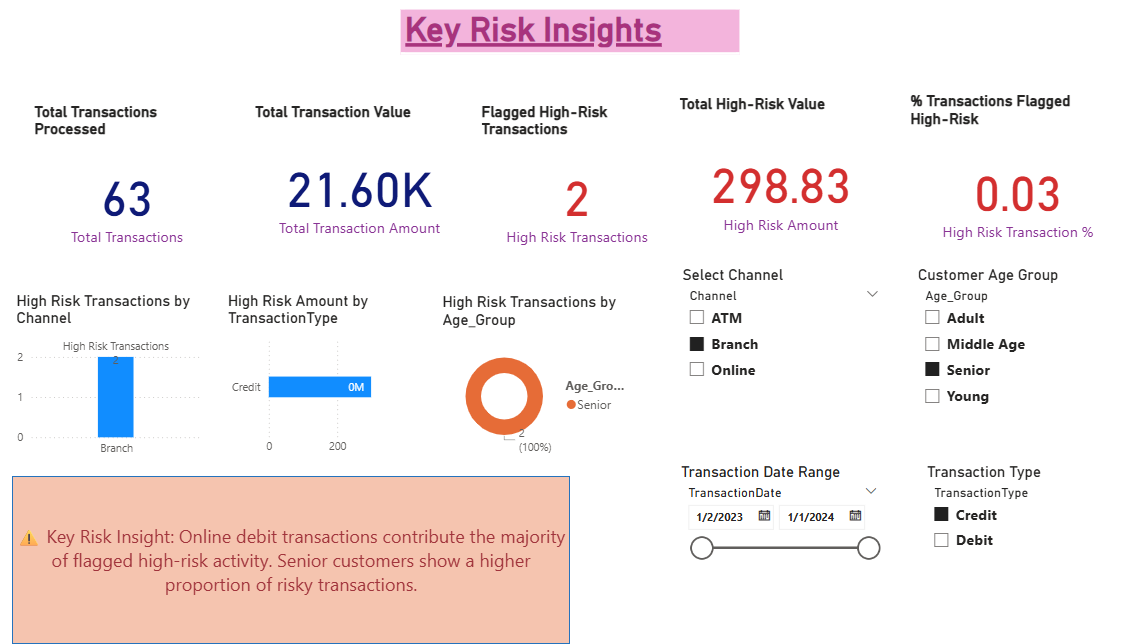

Layout of this report page (visuals, bound fields, positions):
{"tool":"powerbi","page":{"name":"Page 1","canvas":[1280,720],"ordinal":0},"visuals":[{"type":"card","title":"Total Transactions Processed","fields":{"Values":["Bank_Transactions.Total Transactions"]},"box":[40,115,215,181.7],"z":0},{"type":"card","title":"Total Transaction Value","fields":{"Values":["Bank_Transactions.Total Transaction Amount"]},"box":[285,115,241.7,181.7],"z":1000},{"type":"card","title":"Flagged High-Risk Transactions","fields":{"Values":["Bank_Transactions.High Risk Transactions"]},"box":[536.7,115,221.7,181.7],"z":2000},{"type":"card","title":"Total High-Risk Value","fields":{"Values":["Bank_Transactions.High Risk Amount"]},"box":[756.7,106.7,235,190],"z":3000},{"type":"card","title":"% Transactions Flagged High-Risk","fields":{"Values":["Bank_Transactions.High Risk Transaction %"]},"box":[1013.3,103.3,248.3,193.3],"z":4000},{"type":"clusteredColumnChart","fields":{"Category":["Bank_Transactions.Channel"],"Y":["Bank_Transactions.High Risk Transactions"]},"box":[20,325,215,191.7],"z":5000},{"type":"clusteredBarChart","fields":{"Y":["Bank_Transactions.High Risk Amount"],"Category":["Bank_Transactions.TransactionType"]},"box":[255,325,200,190],"z":6000},{"type":"donutChart","fields":{"Category":["Bank_Transactions.Age_Group"],"Y":["Bank_Transactions.High Risk Transactions"]},"box":[493.3,326.7,221.7,190],"z":7000},{"type":"slicer","title":"Select Channel","fields":{"Values":["Bank_Transactions.Channel"]},"box":[758.3,310,235,191.7],"z":8000},{"type":"slicer","title":"Transaction Type","fields":{"Values":["Bank_Transactions.TransactionType"]},"box":[1031.7,515,248.3,190],"z":9000},{"type":"slicer","title":"Customer Age Group","fields":{"Values":["Bank_Transactions.Age_Group"]},"box":[1021.7,311.7,233.3,190],"z":10000},{"type":"slicer","title":"Transaction Date Range","fields":{"Values":["Bank_Transactions.TransactionDate"]},"box":[758.3,515,235,190],"z":11000},{"type":"textbox","title":"Key Risk Insights","box":[451.7,11.7,376.7,50],"z":12000},{"type":"shape","box":[20,530,620,186.7],"z":13000}]}

Visuals, with their boxes in screenshot pixels (x1, y1, x2, y2), scaled from the page's 1280x720 canvas onto the 1140x644 screenshot:
"Total Transactions Processed" card: 36:103:227:265
"Total Transaction Value" card: 254:103:469:265
"Flagged High-Risk Transactions" card: 478:103:675:265
"Total High-Risk Value" card: 674:95:883:265
"% Transactions Flagged High-Risk" card: 902:92:1124:265
clusteredColumnChart - Bank_Transactions.Channel x Bank_Transactions.High Risk Transactions: 18:291:209:462
clusteredBarChart - Bank_Transactions.High Risk Amount x Bank_Transactions.TransactionType: 227:291:405:461
donutChart - Bank_Transactions.Age_Group x Bank_Transactions.High Risk Transactions: 439:292:637:462
"Select Channel" slicer: 675:277:885:449
"Transaction Type" slicer: 919:461:1139:631
"Customer Age Group" slicer: 910:279:1118:449
"Transaction Date Range" slicer: 675:461:885:631
"Key Risk Insights" textbox: 402:10:738:55
shape: 18:474:570:641
